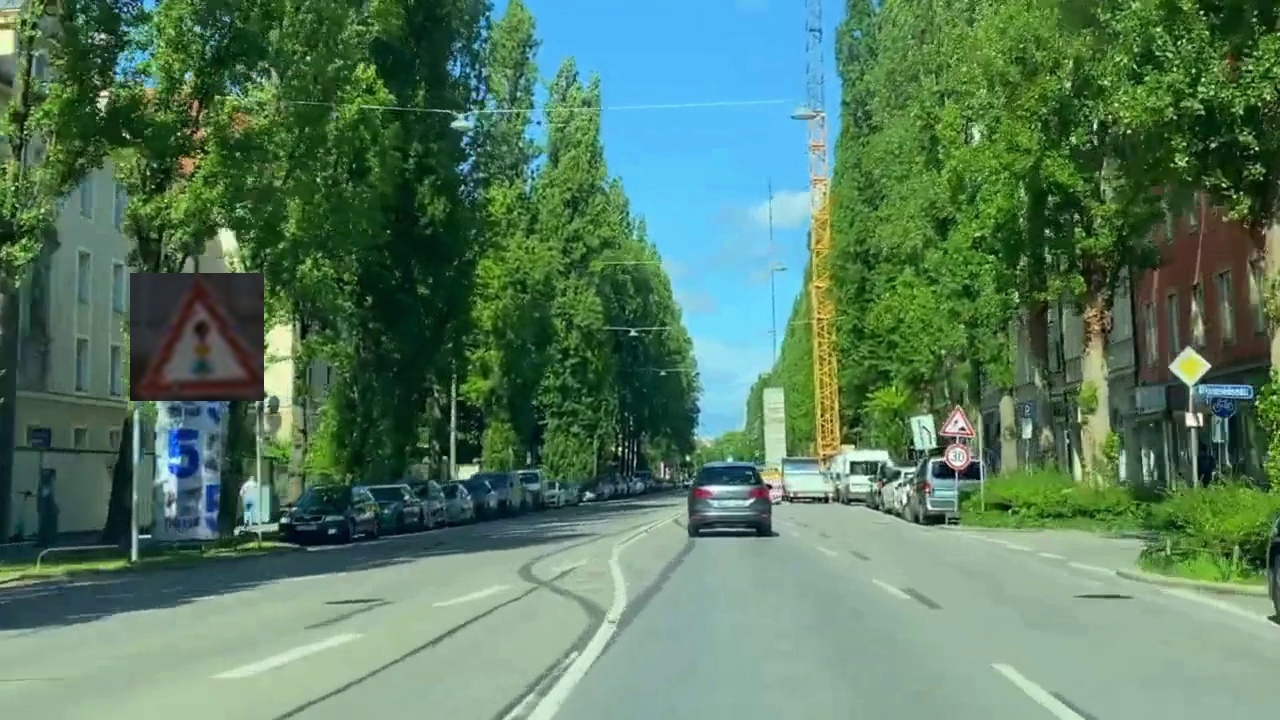Signals: (130, 273, 264, 401)
